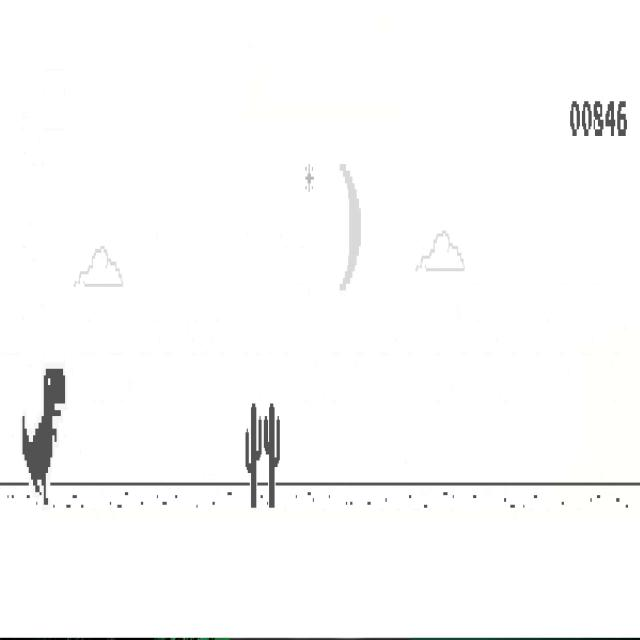cacto: (245, 403, 262, 509), (264, 401, 280, 510)
dino: (21, 368, 66, 507)
